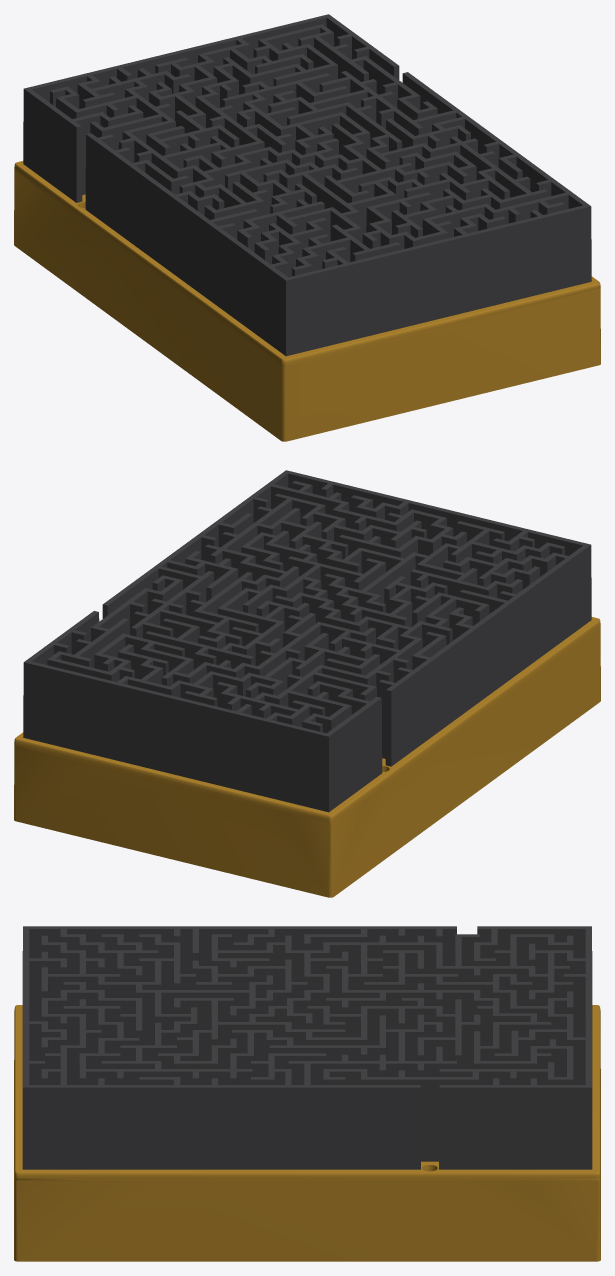
The model's file is laberinto_8.glb.
The picture shows the model from 3 angles, top to bottom: view 1: azimuth 30°, elevation 25°; view 2: azimuth 150°, elevation 25°; view 3: azimuth 270°, elevation 25°; orthographic projection. The views are drawn at different scales.
Visible parts, largest first — view 1: Object_3, Object_4, Object_2; view 2: Object_2, Object_3, Object_4; view 3: Object_3, Object_2, Object_4.
Boxes of the visible parts, x1,y1,x2,y2 form: Object_3: (85,71,591,356); Object_4: (14,161,600,441); Object_2: (23,14,476,219); Object_2: (23,530,489,812); Object_3: (102,470,591,766); Object_4: (14,617,600,897); Object_3: (22,926,456,1169); Object_2: (158,926,592,1169); Object_4: (14,1005,600,1261).
Bounding box in the file's own units: 197 × 92.4 × 289.
